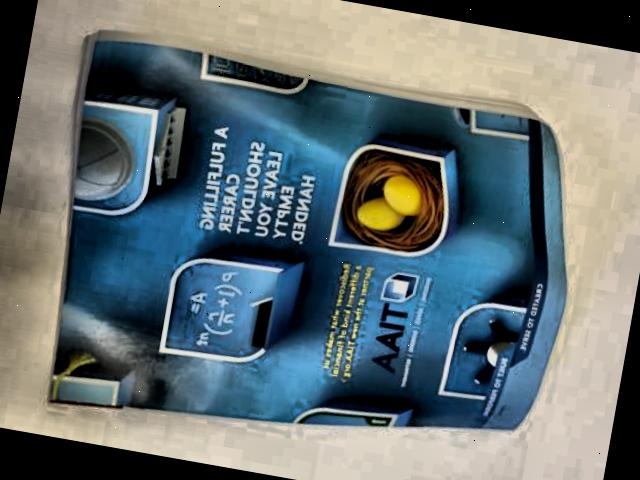Paper: (26, 23, 596, 480)
